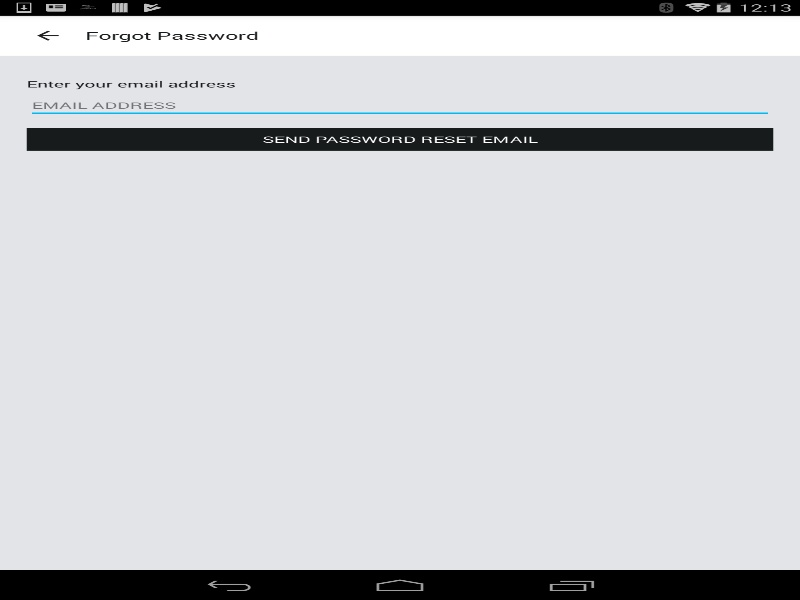Button: (26, 128, 773, 150), (10, 15, 85, 55)
Input: (26, 93, 773, 118)
